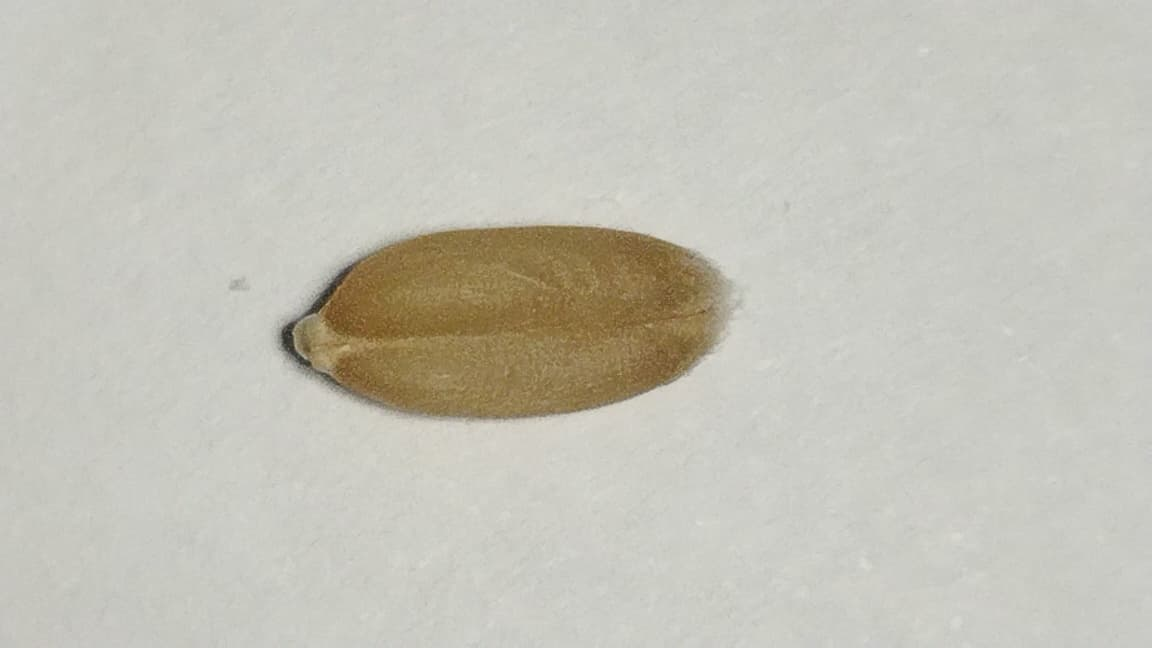healthy: (294, 230, 725, 416)
